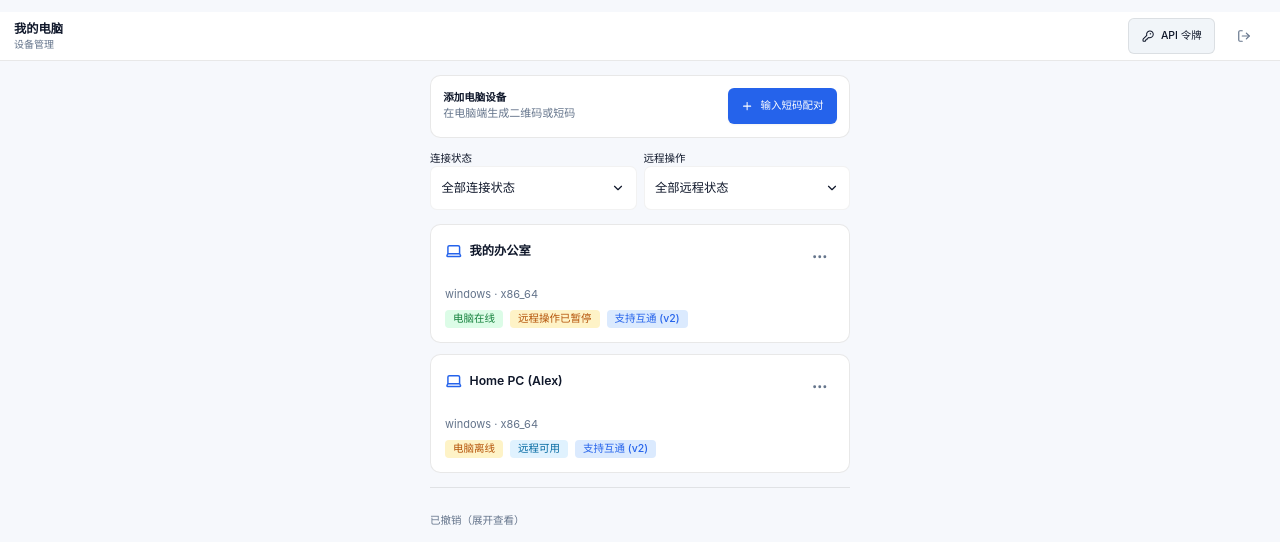
Test: D50 devices and suspension › shows connection and remote-access states independently and prefers the display alias
What coordinates should you click on to do the following:
click the button with aria-label "远程操作"
I would click on:
 (747, 188)
Its box is [644,166,850,210].
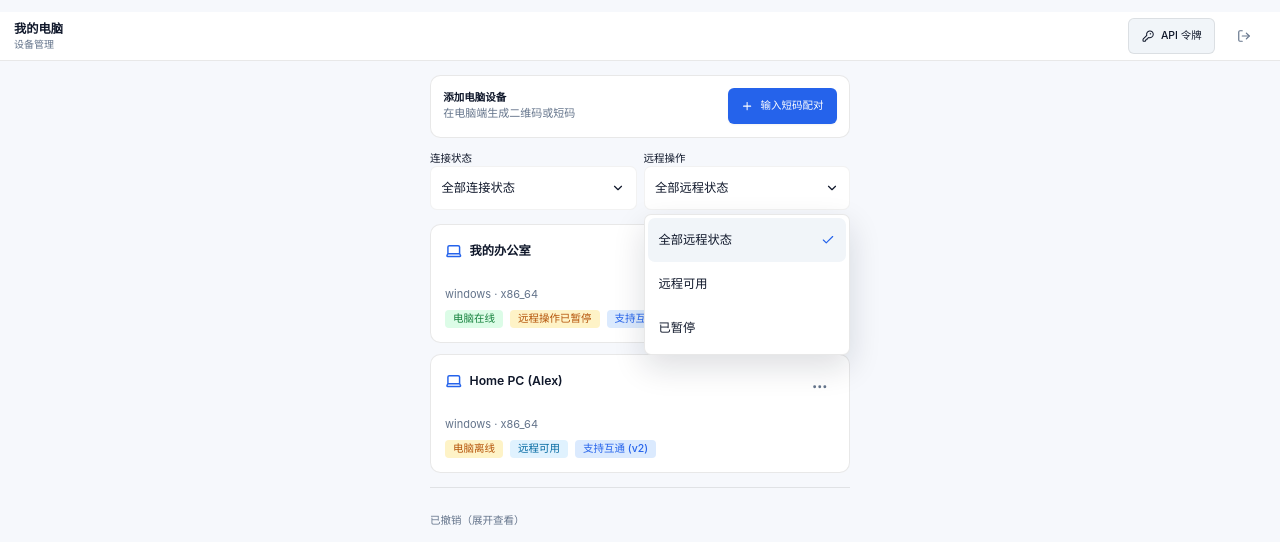
What coordinates should you click on to do the following:
click the option "已暂停"
I would click on:
 (747, 328)
Its box is [648,306,846,350].
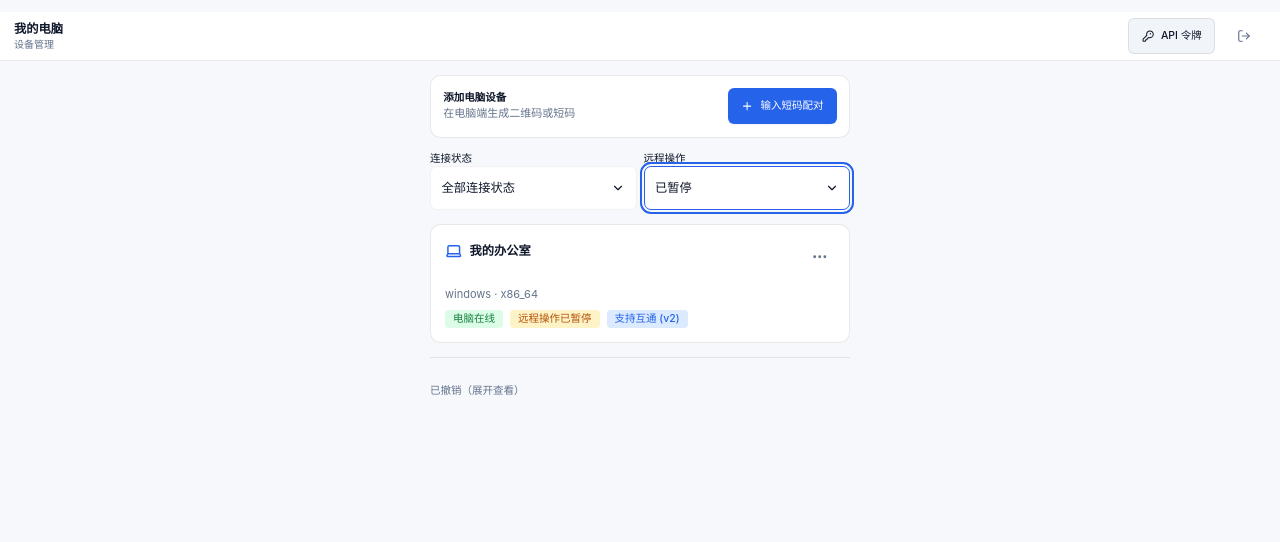
expect the text "Home PC" is gone: met
